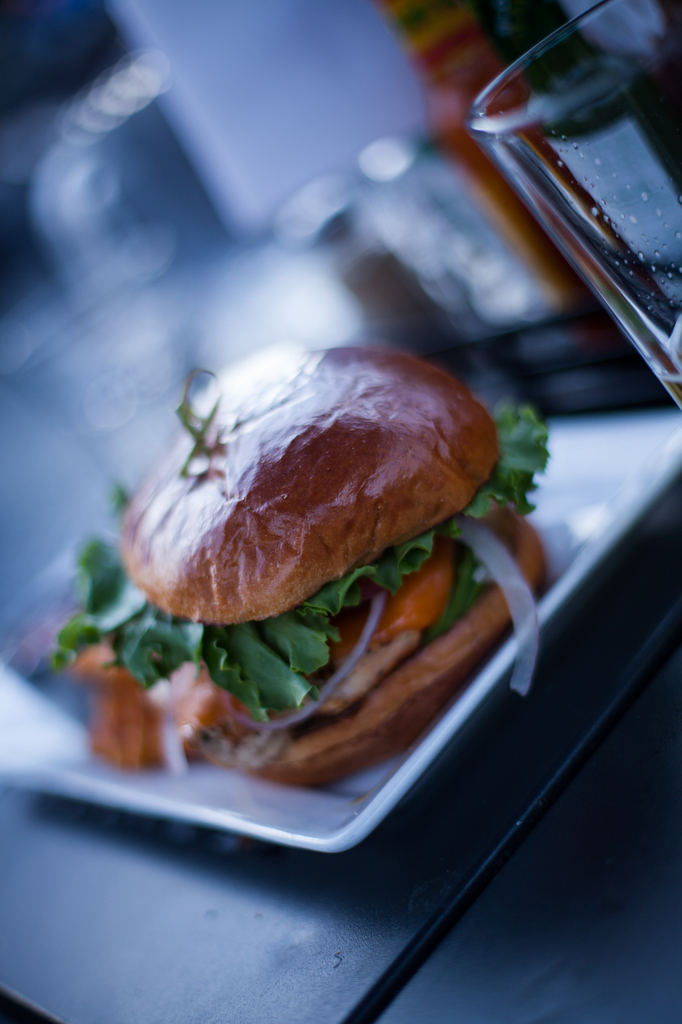Hamburger: (42, 339, 550, 776)
